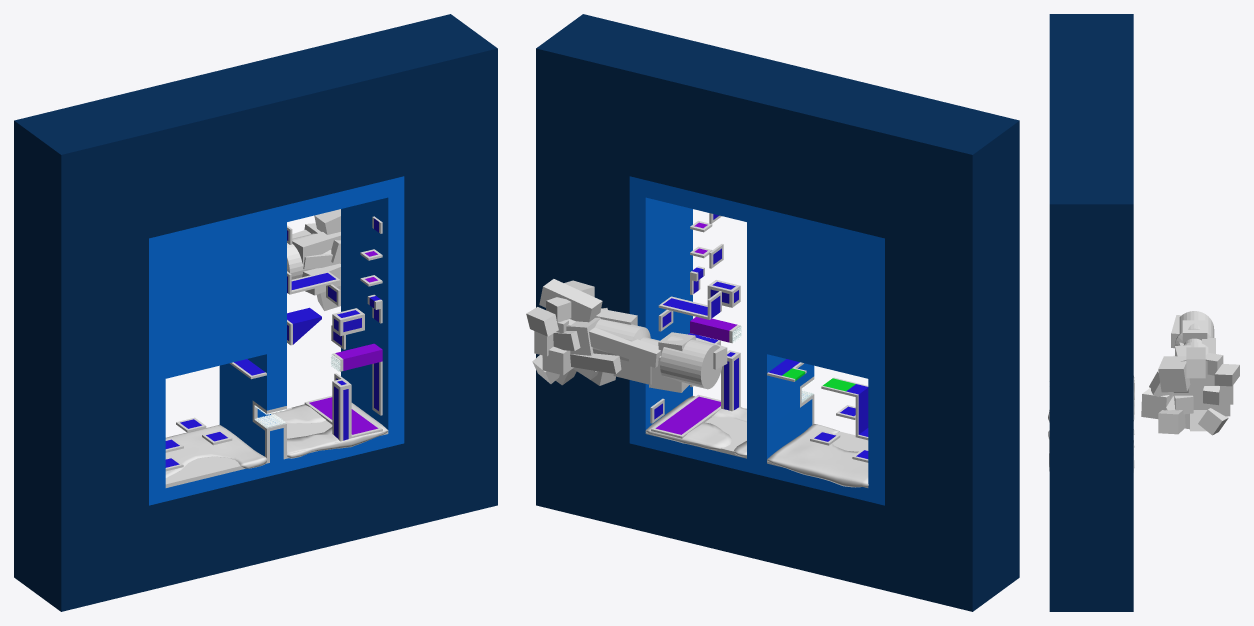
The model's file is FaceA.glb.
3 views of the same model, side by side, from view 1: azimuth 30°, elevation 25°; view 2: azimuth 150°, elevation 25°; view 3: azimuth 270°, elevation 25° (orthographic). The views are drawn at different scales.
Parts seen in each view (by area): view 1: paredeTRUETRUE-col.001, PlanoFundo-col.004, Cylinder-col, neve.001, neve.003, neve.002, plataforma_frente.001-col.011, plataforma_frente.001-col.009, plataforma_fundo.001-col.003, plataforma_frente-col.040; view 2: paredeTRUETRUE-col.001, PlanoFundo-col.004, Cylinder-col, neve.001, neve.003, plataforma_frente-col.040, plataforma_frente.001-col.011, neve.004; view 3: paredeTRUETRUE-col.001, Cylinder-col.
Boxes of the visible parts, box(x1,y1,x2,y2) form: paredeTRUETRUE-col.001: box(14, 14, 497, 611); PlanoFundo-col.004: box(149, 176, 404, 505); Cylinder-col: box(287, 209, 340, 310); neve.001: box(165, 425, 266, 478); neve.003: box(274, 403, 388, 458); neve.002: box(165, 456, 240, 483); plataforma_frente.001-col.011: box(335, 343, 382, 370); plataforma_frente.001-col.009: box(332, 378, 351, 441); plataforma_fundo.001-col.003: box(287, 307, 321, 344); plataforma_frente-col.040: box(309, 397, 378, 434); paredeTRUETRUE-col.001: box(536, 14, 1019, 611); PlanoFundo-col.004: box(629, 176, 884, 505); Cylinder-col: box(526, 279, 727, 392); neve.001: box(767, 424, 868, 487); neve.003: box(645, 396, 746, 456); plataforma_frente-col.040: box(655, 396, 720, 434); plataforma_frente.001-col.011: box(690, 317, 737, 342); neve.004: box(646, 395, 746, 451); paredeTRUETRUE-col.001: box(1049, 14, 1133, 611); Cylinder-col: box(1141, 311, 1239, 435).
Size of the model in its own units: 509 by 509 by 217.
